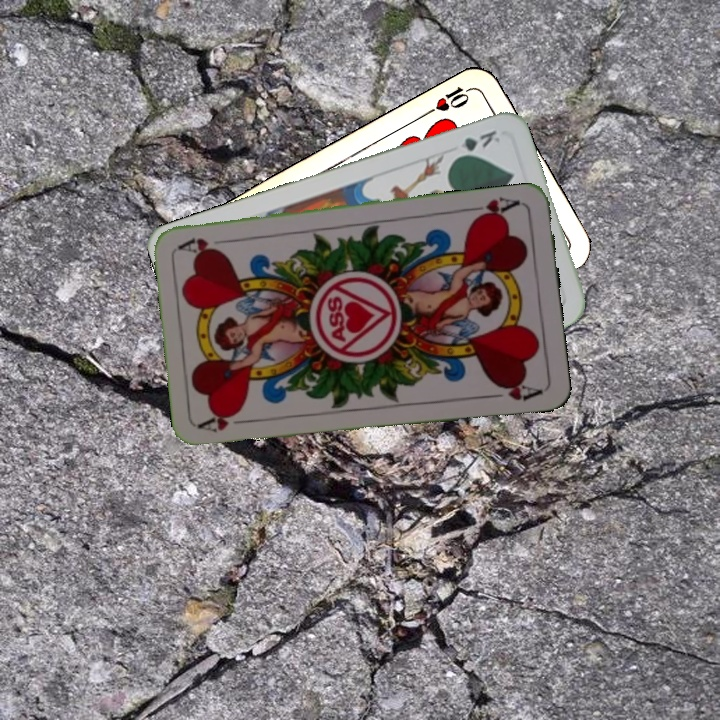GK: (449, 126, 503, 162)
H10: (423, 82, 477, 118)
HA: (465, 193, 523, 223), (196, 408, 256, 435)
